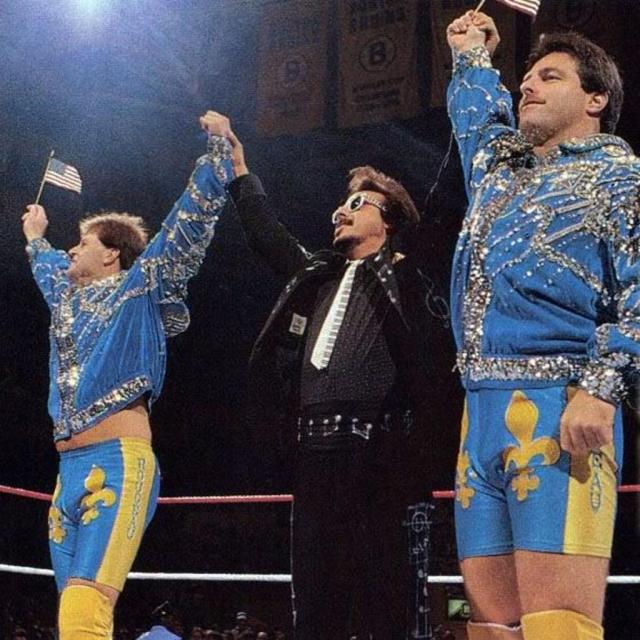nomask: (516, 53, 582, 135), (330, 185, 380, 246), (65, 226, 104, 279)
